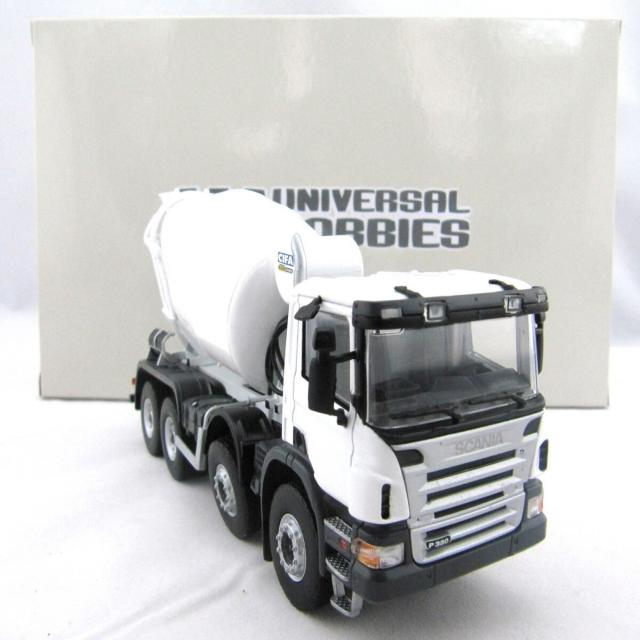Mixer Truck: (130, 192, 550, 617)
